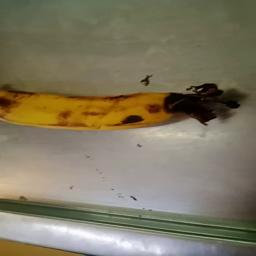Banana Semifresh: (0, 84, 241, 132)
